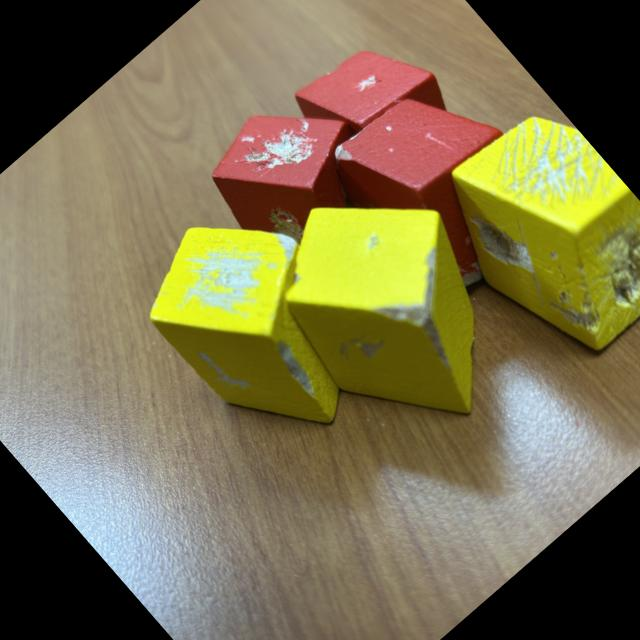broken: (238, 146, 553, 468), (120, 180, 402, 470), (315, 58, 568, 314), (416, 89, 640, 375), (188, 74, 406, 292), (282, 17, 477, 213)
